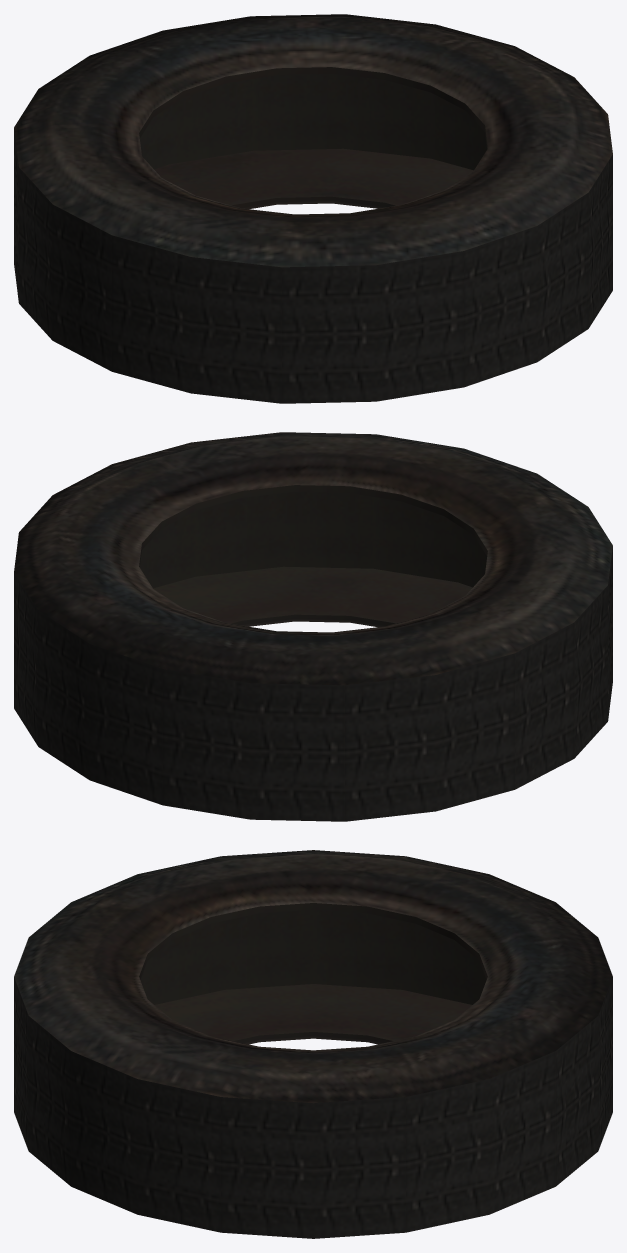
Rendered from tire_2.obj.
The picture shows the model from 3 angles, top to bottom: view 1: azimuth 30°, elevation 25°; view 2: azimuth 150°, elevation 25°; view 3: azimuth 270°, elevation 25°; orthographic projection.
Visible parts, largest first — view 1: tire_2; view 2: tire_2; view 3: tire_2.
Part boxes in pixels (<box>): tire_2: <box>14,14,612,403</box>; tire_2: <box>14,432,612,821</box>; tire_2: <box>14,850,612,1238</box>.
Bounding box in the file's own units: 0.64 × 0.1893 × 0.64.
